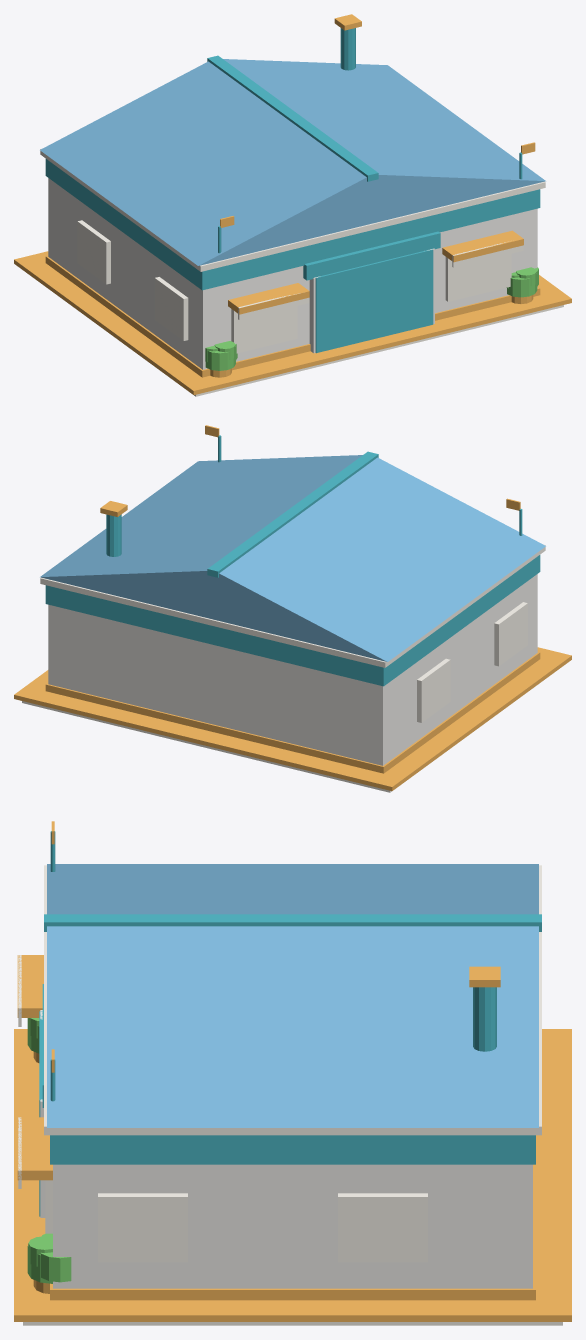
Rendered from market_building.fbx.
3 views of the same model, one above another, from view 1: azimuth 30°, elevation 25°; view 2: azimuth 150°, elevation 25°; view 3: azimuth 270°, elevation 25° (orthographic). The views are drawn at different scales.
Visible parts, largest first — view 1: Roof, WallBody, PlazaEdge, TealBand, EntranceRecess, Coping, BaseStripe, WinFrame_3.2, EntranceBeam, RidgeCap, WinFrame_-3.2, SideWinFrame_-5.06_-2.5 (+10 smaller); view 2: Roof, WallBody, PlazaEdge, TealBand, BaseStripe, Coping, RidgeCap, SideWinFrame_-5.06_1.5, SideWinFrame_-5.06_-2.5, Plaza, Chimney; view 3: Roof, WallBody, PlazaEdge, TealBand, BaseStripe, RidgeCap, SideWinFrame_5.06_-2.5, SideWinFrame_5.06_1.5, Coping, Plaza, Awning_3.2, Awning_-3.2 (+3 smaller).
Part boxes in pixels (x1,y1,x2,y2): Roof: (40,59,545,265); WallBody: (48,178,537,369); PlazaEdge: (14,251,571,394); TealBand: (45,159,540,290); EntranceRecess: (315,249,433,353); Coping: (40,148,545,271); BaseStripe: (45,256,540,377); WinFrame_3.2: (445,253,511,301); EntranceBeam: (303,231,440,280); RidgeCap: (207,55,378,181); WinFrame_-3.2: (231,306,297,353); SideWinFrame_-5.06_-2.5: (154,277,188,340); Roof: (40,455,545,661); WallBody: (48,574,537,765); PlazaEdge: (14,647,571,790); TealBand: (45,555,540,686); BaseStripe: (45,652,540,773); Coping: (40,544,545,667); RidgeCap: (207,451,378,577); SideWinFrame_-5.06_1.5: (417,658,450,722); SideWinFrame_-5.06_-2.5: (494,602,527,666); Plaza: (22,701,391,792); Chimney: (106,514,121,556); Roof: (47,864,538,1127); WallBody: (53,1164,532,1288); PlazaEdge: (14,1029,571,1321); TealBand: (50,1135,535,1164); BaseStripe: (50,1164,535,1300); RidgeCap: (44,914,541,931); SideWinFrame_5.06_-2.5: (98,1193,187,1262); SideWinFrame_5.06_1.5: (338,1193,427,1262); Coping: (44,865,541,1135); Plaza: (23,1322,562,1325); Awning_3.2: (17,1117,52,1180); Awning_-3.2: (17,955,43,1017).
Size of the model in its own units: 1130 by 555 by 930.
